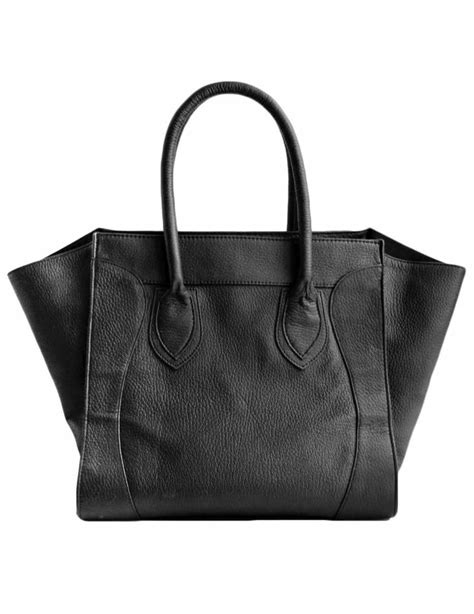cuero: (8, 81, 466, 522)
